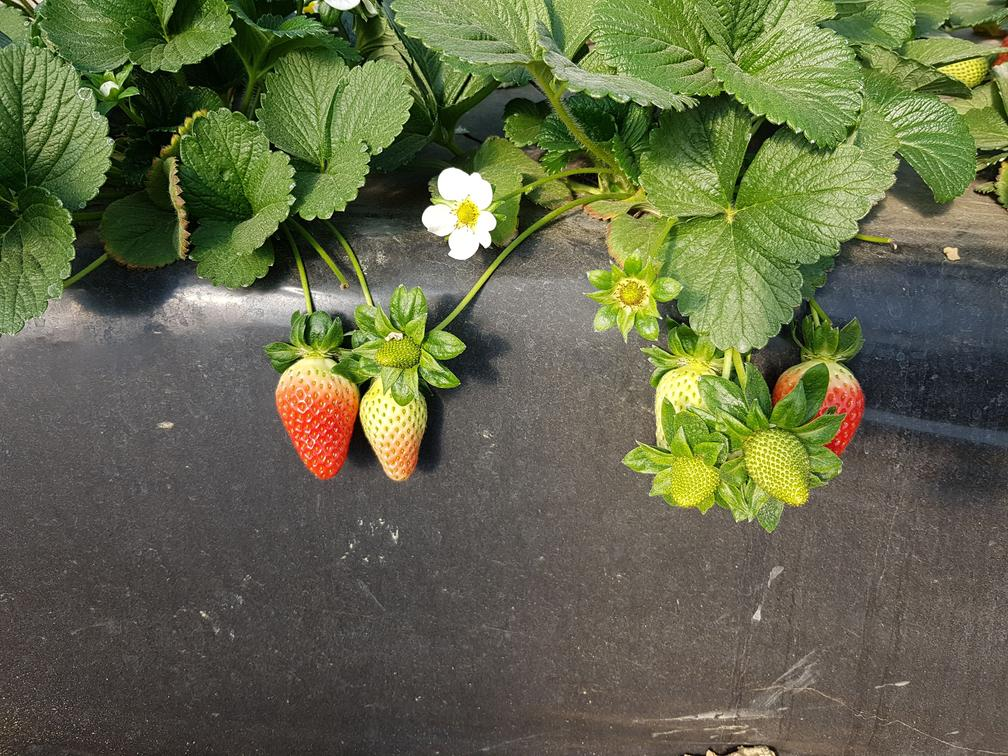Ripe: (276, 363, 358, 485), (781, 355, 868, 460)
Unripe: (359, 384, 452, 490), (749, 438, 813, 513), (669, 446, 722, 515)
